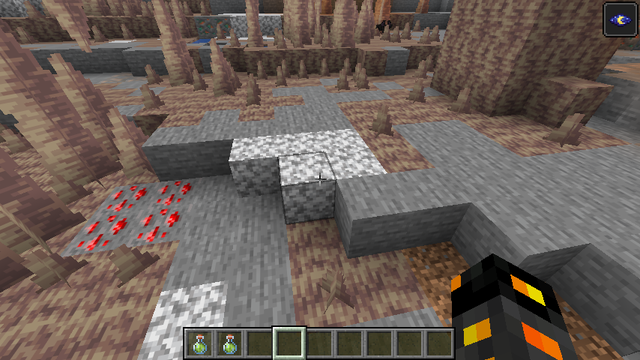copper: (196, 14, 230, 39)
redstone: (73, 183, 192, 254)
